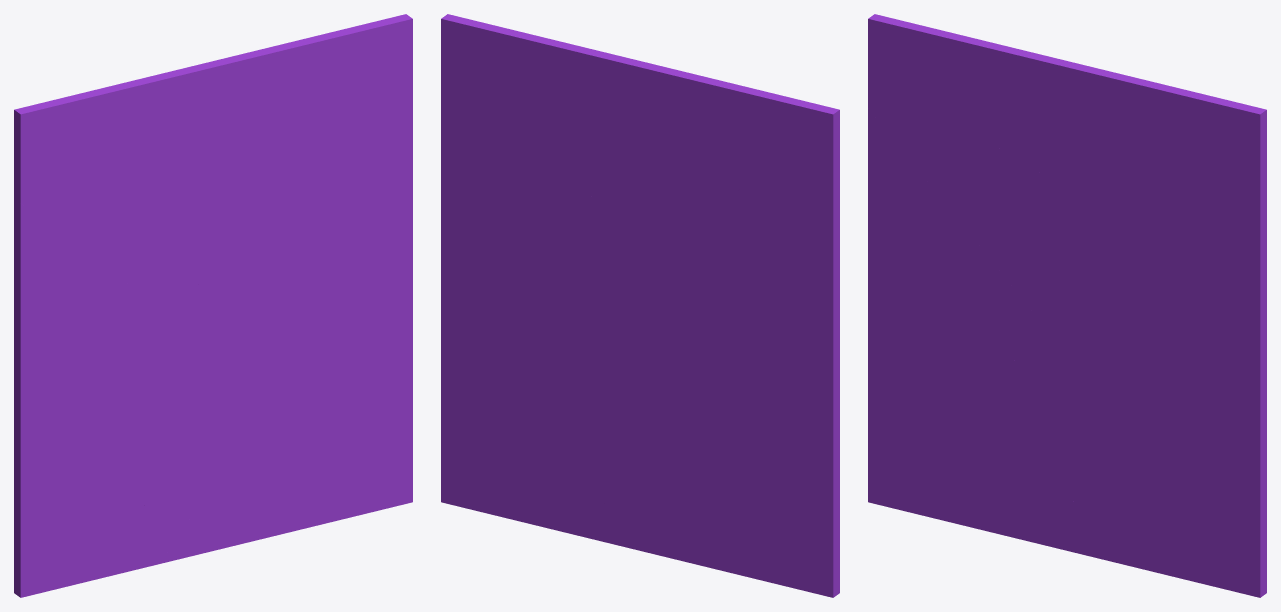
File: Window_52_chunks.fbx
3 renders of one model, left to right at view 1: azimuth 30°, elevation 25°; view 2: azimuth 150°, elevation 25°; view 3: azimuth 330°, elevation 25°, orthographic.
Visible parts, largest first — view 1: Window_52_4, Window_52_3, Window_52_2, Window_52_8, Window_52_5, Window_52_22, Window_52_6, Window_52_0, Window_52_26, Window_52_25, Window_52_24, Window_52_20 (+15 smaller); view 2: Window_52_4, Window_52_3, Window_52_8, Window_52_6, Window_52_22, Window_52_26, Window_52_30, Window_52_2, Window_52_5, Window_52_24, Window_52_10, Window_52_25 (+12 smaller); view 3: Window_52_4, Window_52_3, Window_52_2, Window_52_8, Window_52_5, Window_52_22, Window_52_6, Window_52_26, Window_52_0, Window_52_25, Window_52_24, Window_52_20 (+15 smaller).
Part boxes in pixels (x1,y1,x2,y2): Window_52_4: (223,332,412,532); Window_52_3: (14,371,208,597); Window_52_2: (14,71,177,218); Window_52_8: (14,321,127,518); Window_52_5: (154,308,346,431); Window_52_22: (173,27,367,153); Window_52_6: (209,206,354,333); Window_52_0: (40,192,217,330); Window_52_26: (316,14,412,189); Window_52_25: (357,147,412,344); Window_52_24: (295,211,379,337); Window_52_20: (275,20,388,176); Window_52_4: (441,331,640,536); Window_52_3: (637,368,839,597); Window_52_8: (720,318,839,523); Window_52_6: (497,208,653,335); Window_52_22: (492,25,673,148); Window_52_26: (441,14,548,200); Window_52_30: (734,119,839,279); Window_52_2: (676,71,839,198); Window_52_5: (521,310,687,424); Window_52_24: (468,194,559,341); Window_52_10: (634,255,735,401); Window_52_25: (441,154,492,346); Window_52_4: (1071,395,1266,597); Window_52_3: (868,340,1055,515); Window_52_2: (868,14,1030,144); Window_52_8: (868,238,974,418); Window_52_5: (1002,310,1193,434); Window_52_22: (1034,53,1215,172); Window_52_6: (1057,216,1202,400); Window_52_26: (1163,104,1266,262); Window_52_0: (888,132,1065,318); Window_52_25: (1205,243,1266,439); Window_52_24: (1143,258,1226,416); Window_52_20: (1123,96,1242,219).
Bounding box in the file's own units: 937 × 1104 × 27.2.
